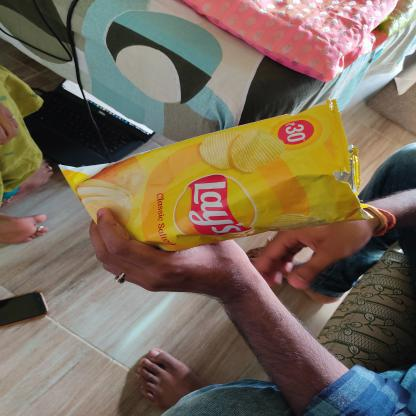classicsalted: (56, 98, 375, 256)
